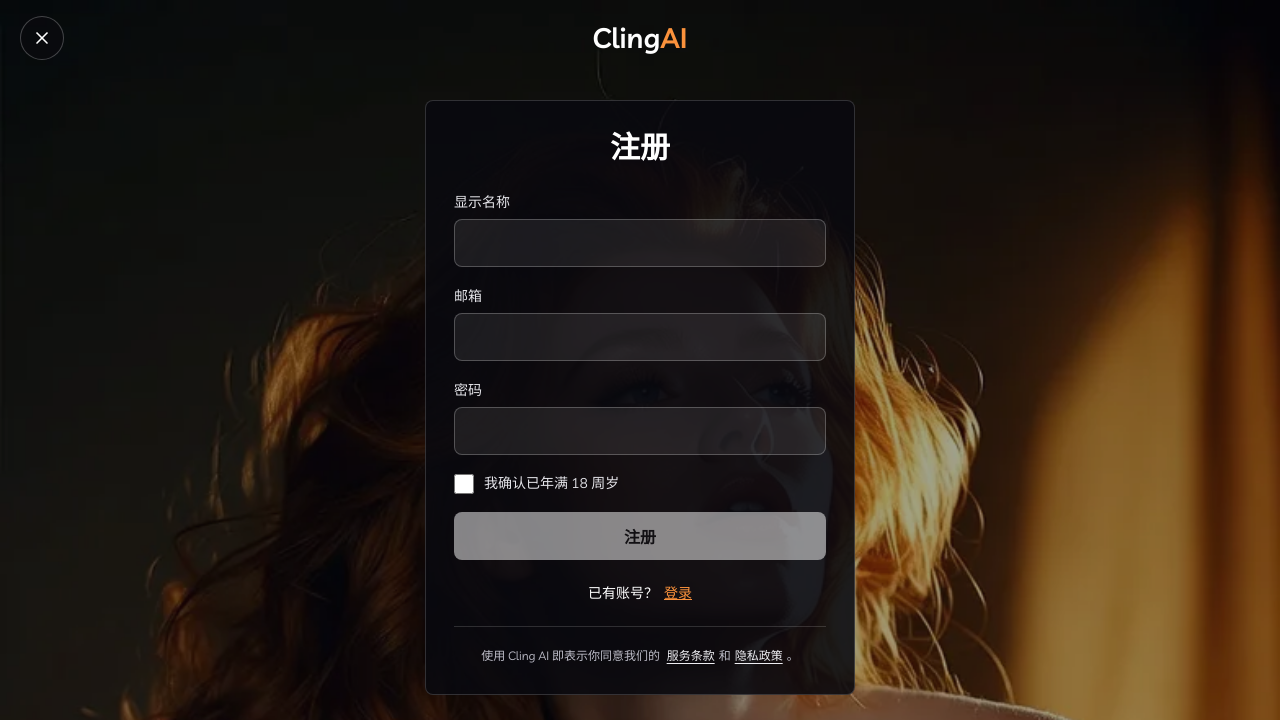
Test case: 认证页品牌布局与明确年龄确认 › 注册 后 /me 失败仍留在当前页
This screenshot has width=1280, height=720.
In the field labelled "邮箱": {"x": 640, "y": 336} [454, 312, 826, 360], type "test@example.com"
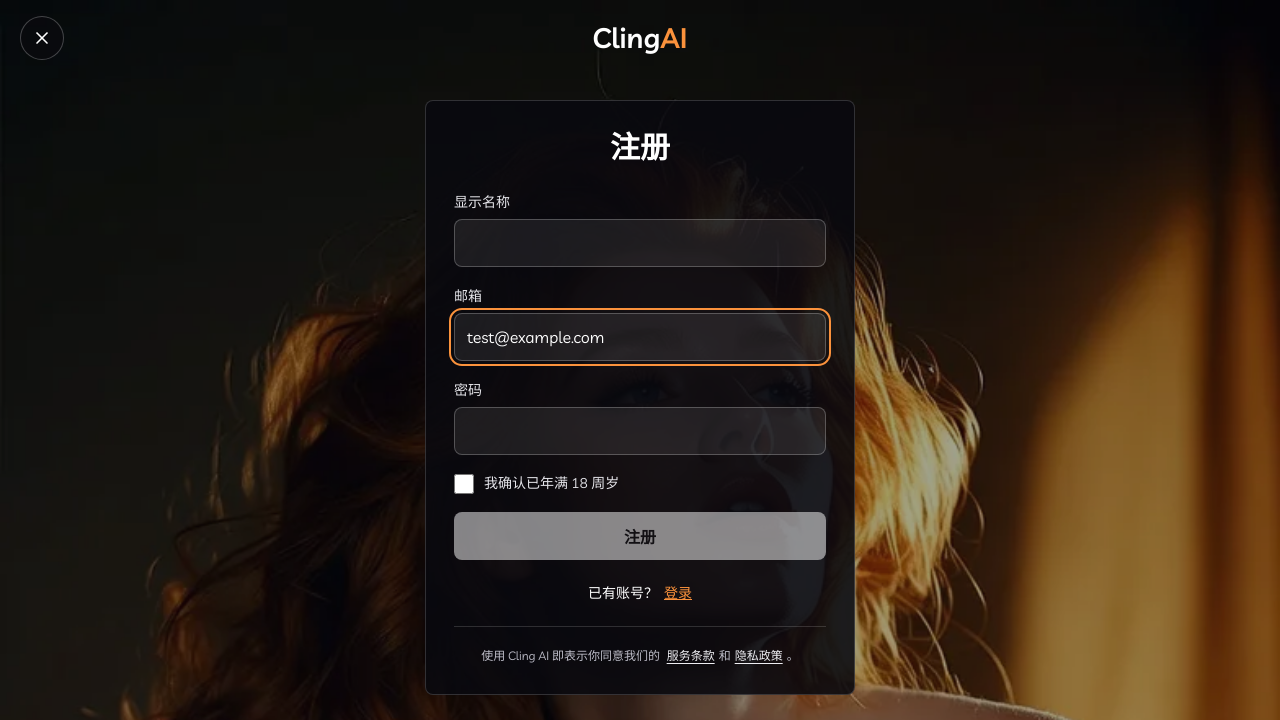
In the password field labelled "密码": {"x": 640, "y": 430} [454, 406, 826, 454], type "password123"
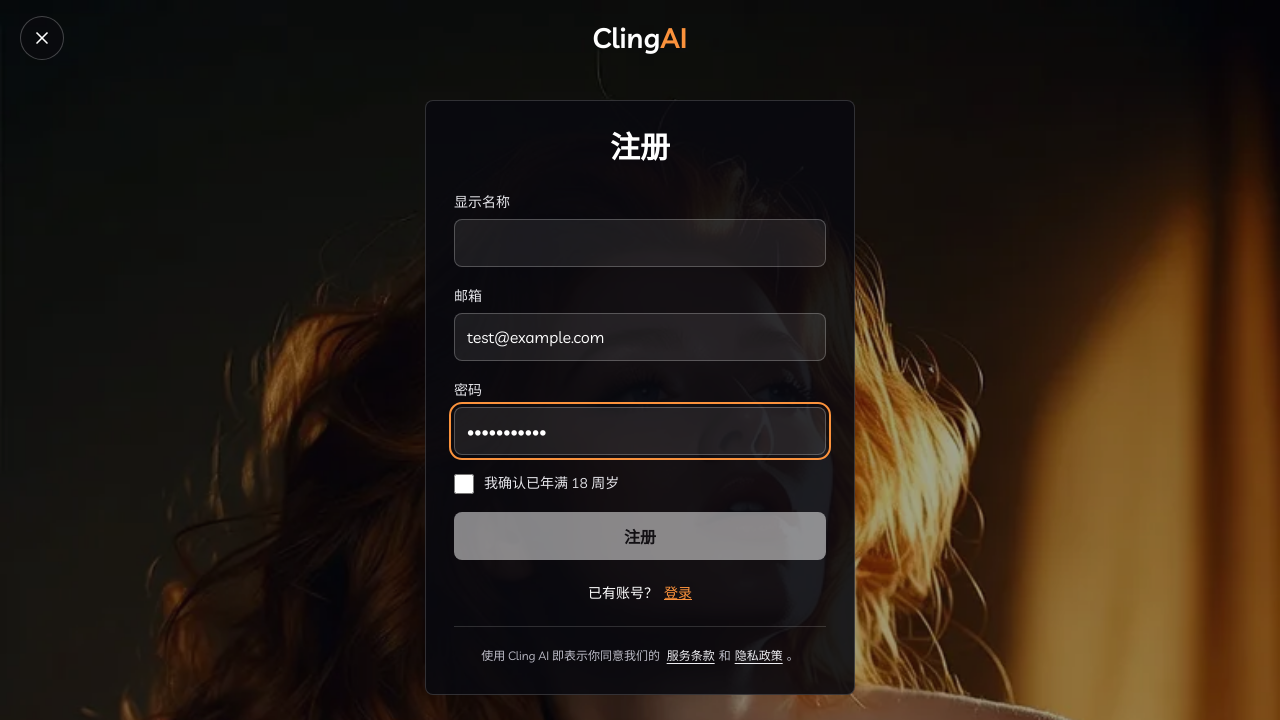
Click the checkbox: {"x": 464, "y": 484} [454, 474, 474, 494]
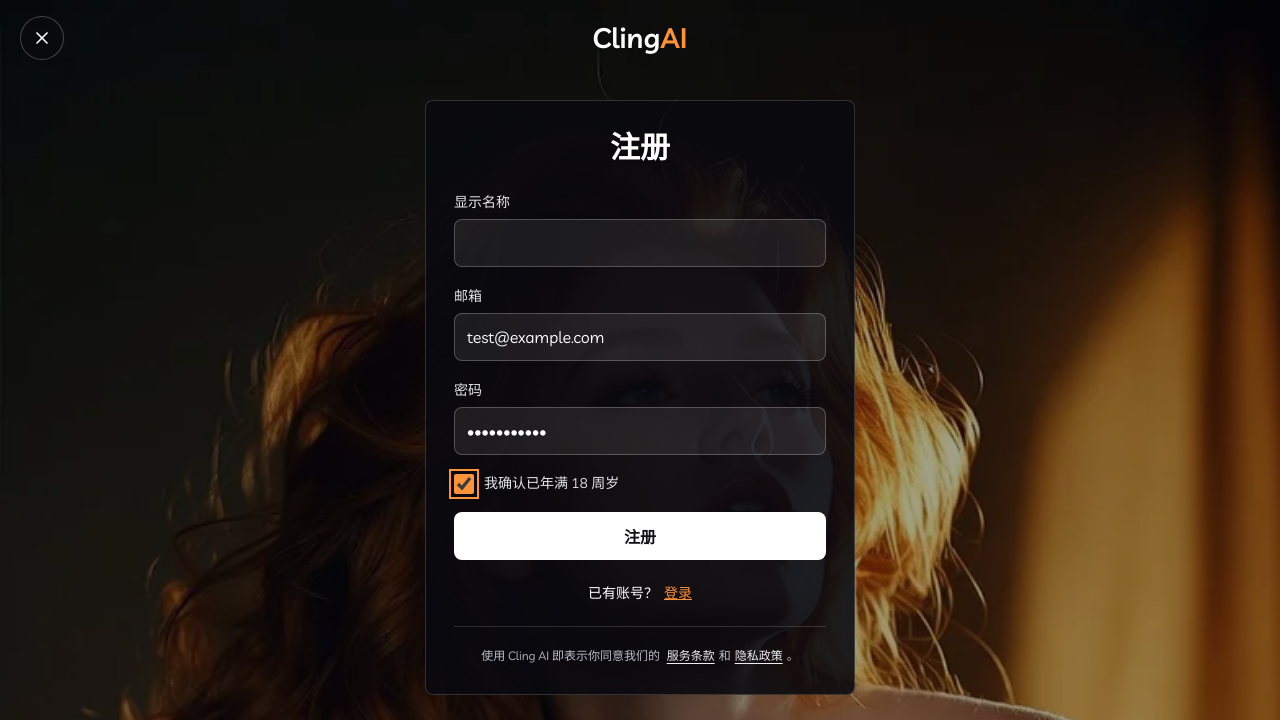
Click the button "注册": {"x": 640, "y": 536} [454, 512, 826, 560]
(page scrolled)
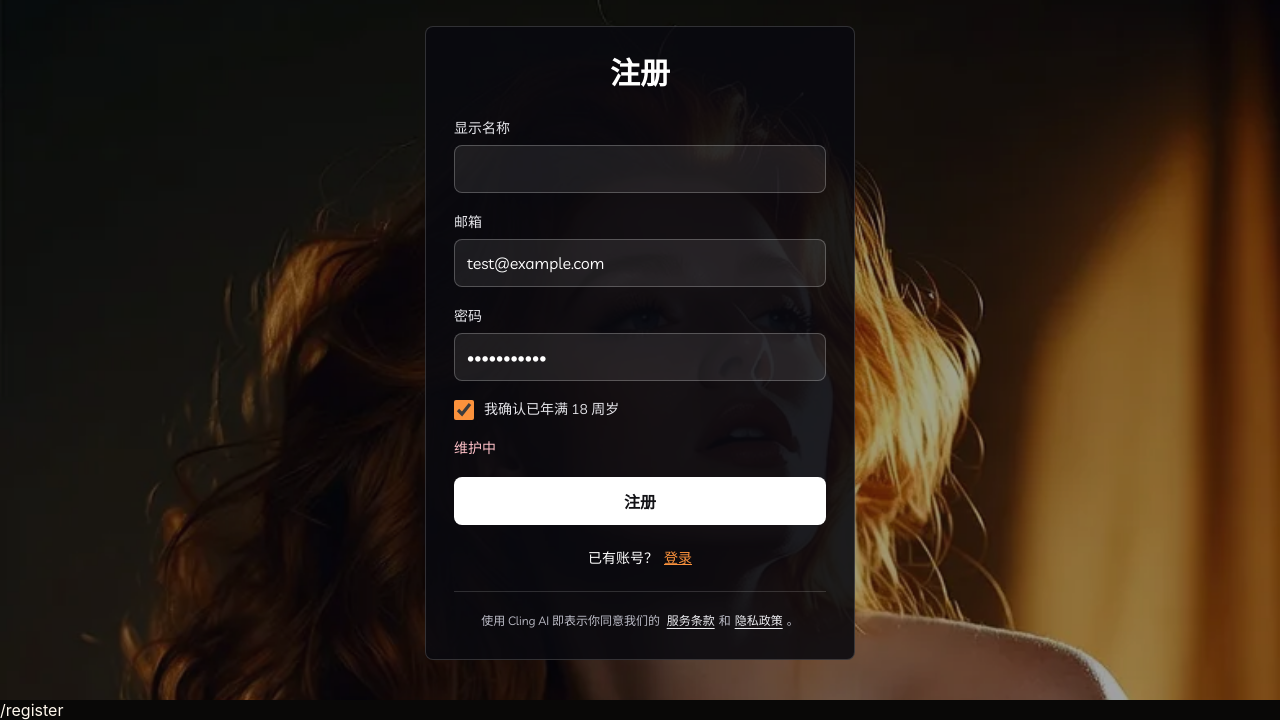
Expected: the text with test id "auth-location" reads "/register", [0, 700, 63, 719]
Expected: the message reads "维护中", [454, 438, 496, 456]
